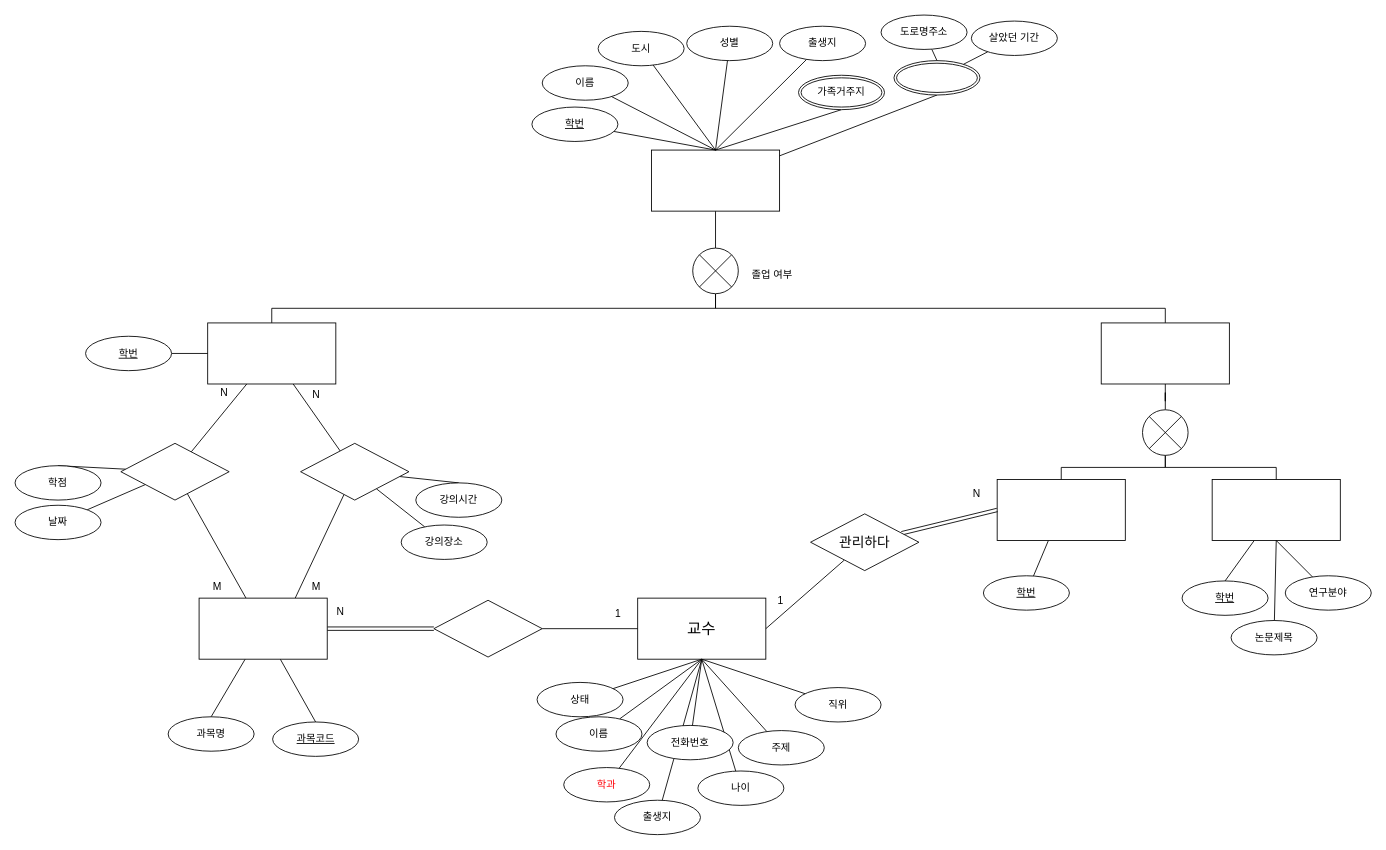
The diagram is 1386 pixels wide and 850 high, and some of its shapes have lost their labels. Each missing label, with the centre of its shape:
"가르치다" belongs at (487,628).
"강의" belongs at (262,628).
"박사" belongs at (1275,510).
"석사" belongs at (1060,510).
"수강 진행중이다." belongs at (354,471).
"수강을 마치다." belongs at (174,471).
"이전 주소" belongs at (936,77).
"학사" belongs at (271,353).
"학사 졸업" belongs at (1164,353).
"학생" belongs at (715,180).
